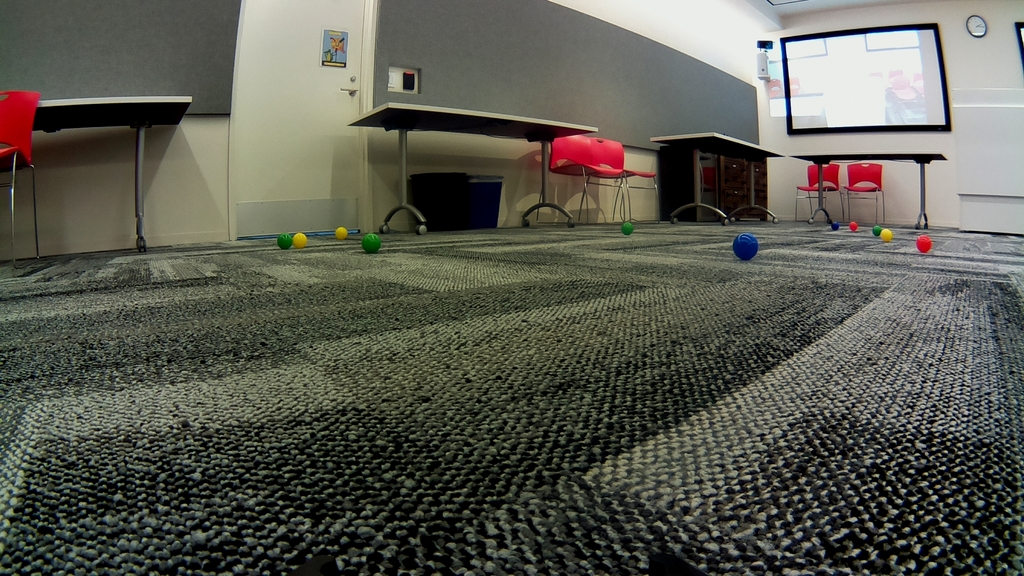ball: (733, 234, 757, 262)
